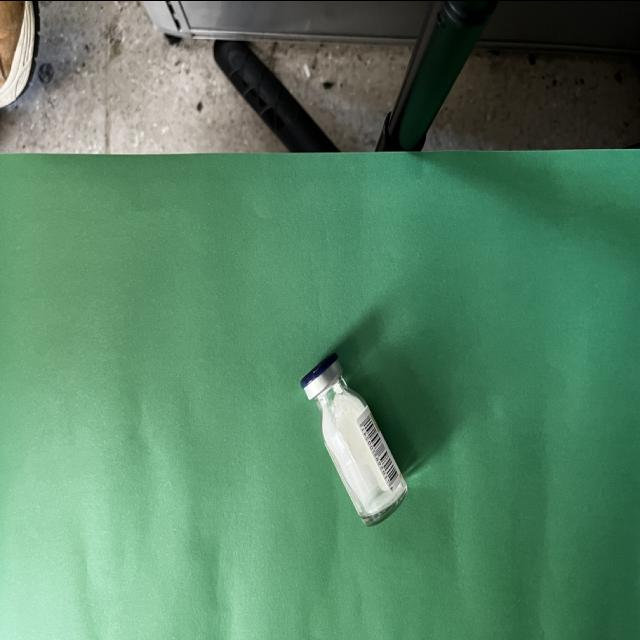Vials: (301, 353, 407, 524)
